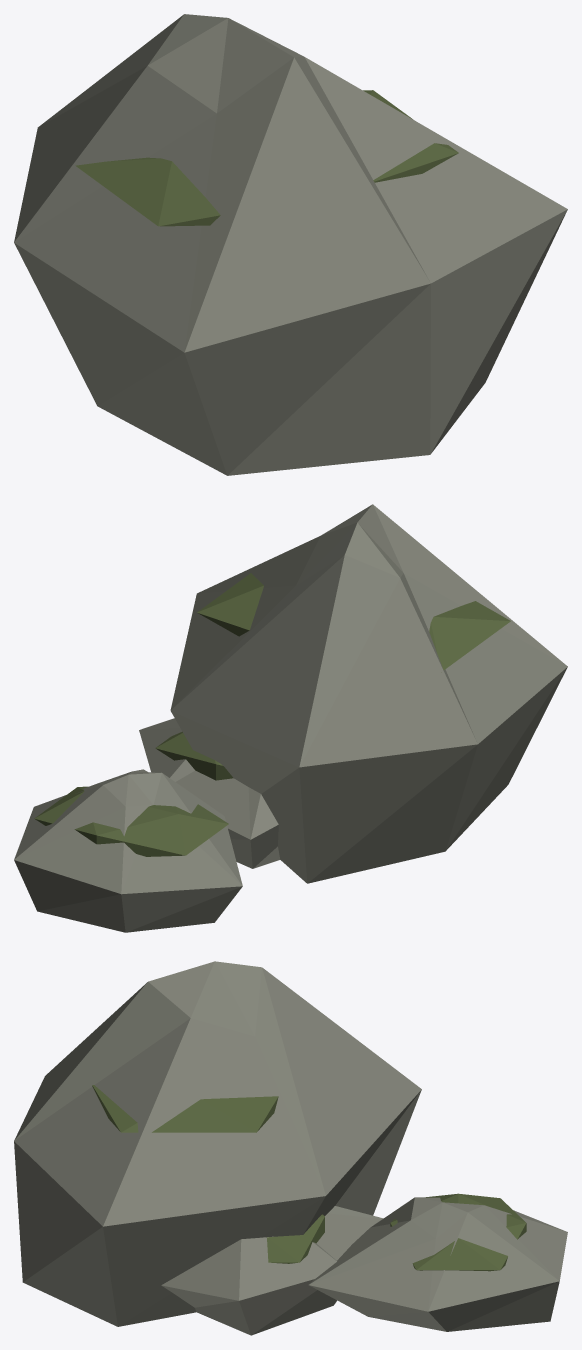
The model's file is mossy_rocks-far.glb.
3 views of the same model, one above another, from view 1: azimuth 30°, elevation 25°; view 2: azimuth 150°, elevation 25°; view 3: azimuth 270°, elevation 25° (orthographic). The views are drawn at different scales.
Parts seen in each view (by area): view 1: world-scenery/mossy_rocks-far; view 2: world-scenery/mossy_rocks-far; view 3: world-scenery/mossy_rocks-far.
Part boxes in pixels (<box>): world-scenery/mossy_rocks-far: <box>14,14,567,475</box>; world-scenery/mossy_rocks-far: <box>14,504,567,932</box>; world-scenery/mossy_rocks-far: <box>14,961,567,1335</box>.
Bounding box in the file's own units: 1.91 × 1.49 × 2.58.
